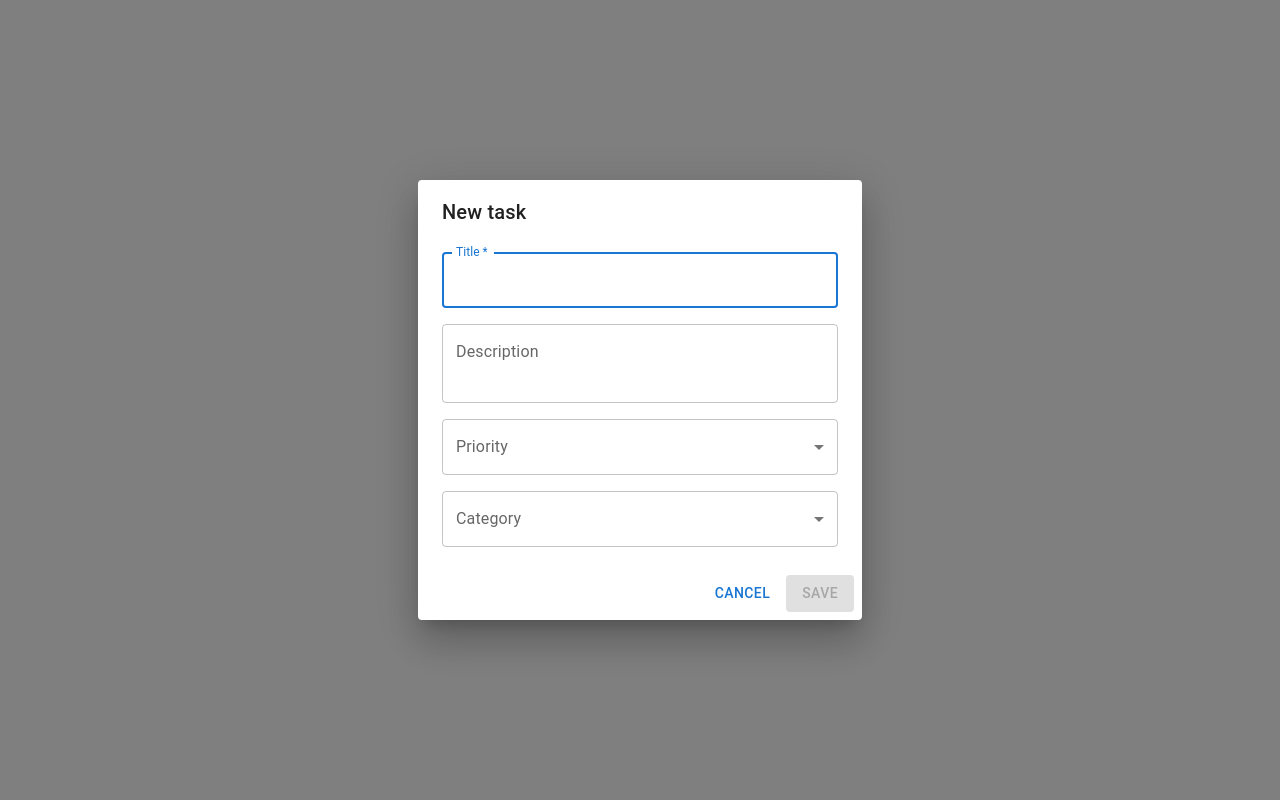
Test case: shows the error of the server
The width and height of the screenshot is (1280, 800).
Type "Work" into the field labelled "Title *" at (640, 280), box [442,252,838,308]
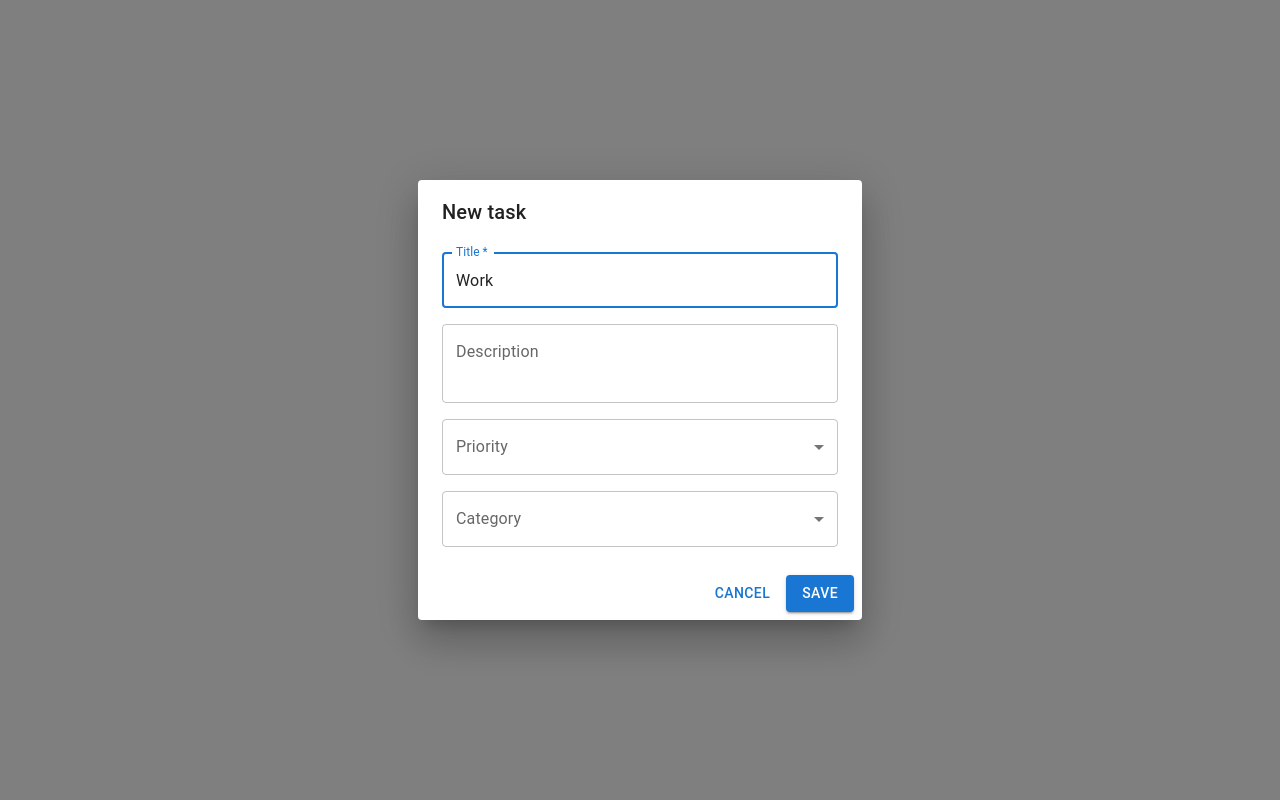
Click the button "Save" at (820, 594), box [786,575,854,612]
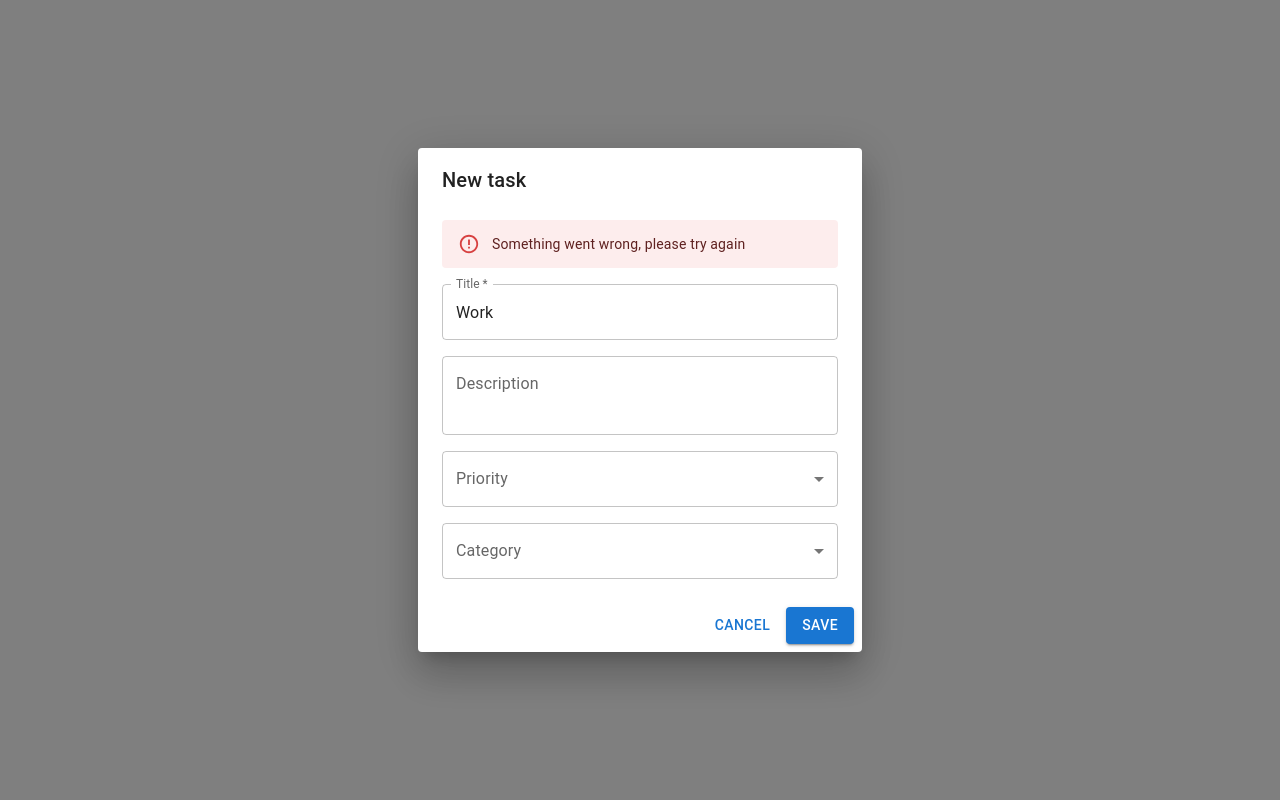
Check: the message "Something went wrong, please try again" is shown, box [442,220,838,268]
